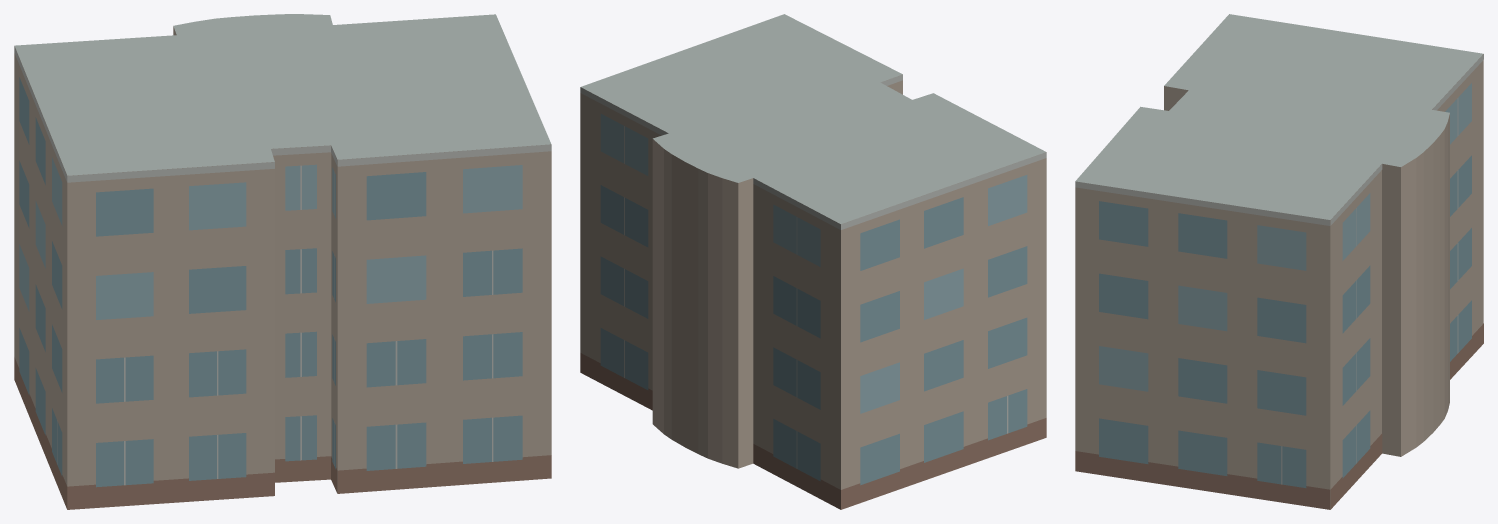
The model's file is survey-upis-32877998.glb.
3 renders of one model, left to right at view 1: azimuth 30°, elevation 25°; view 2: azimuth 150°, elevation 25°; view 3: azimuth 270°, elevation 25°, orthographic. The views are drawn at different scales.
Parts seen in each view (by area): view 1: survey-upis-32877998.tmp; view 2: survey-upis-32877998.tmp; view 3: survey-upis-32877998.tmp.
Part boxes in pixels (x1,y1,x2,y2): survey-upis-32877998.tmp: (14,14,551,509); survey-upis-32877998.tmp: (580,14,1046,509); survey-upis-32877998.tmp: (1075,14,1483,509).
Bounding box in the file's own units: 18.01 × 11.8 × 15.09.
